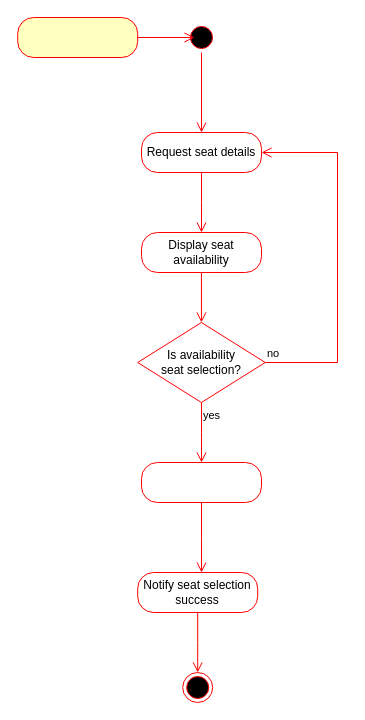
The diagram is 365 pixels wide and 720 high, and some of its shapes have lost their labels. Each missing label, with the centre of its shape:
"Confirm Seat selection" goes at point 201,482.
"Start seat selection" goes at point 77,37.
